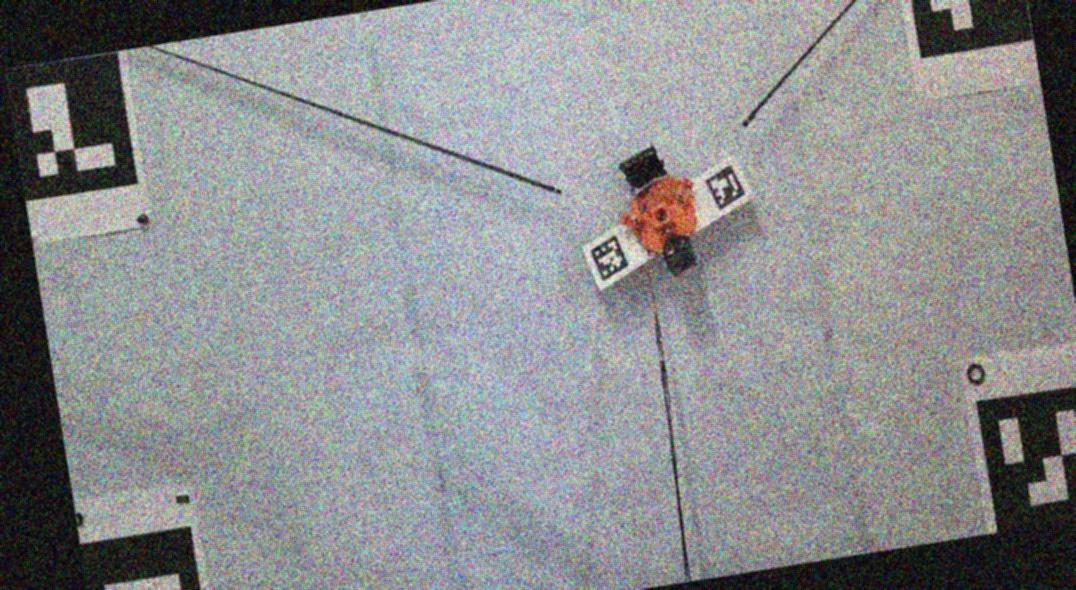robot: (619, 144, 698, 275)
